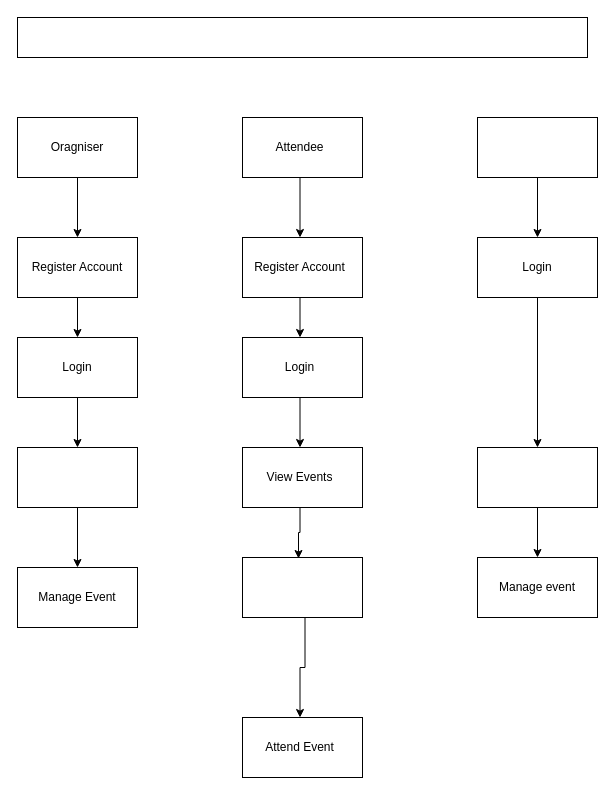
This 615x795 diagram has some shape labels left out. The centre of each missing label's shape, as x and y in pixels:
"Admin" belongs at (537,147).
"Create Event" belongs at (77,477).
"Event Management System" belongs at (302,37).
"Manage users" belongs at (537,477).
"Register for Event" belongs at (302,587).
